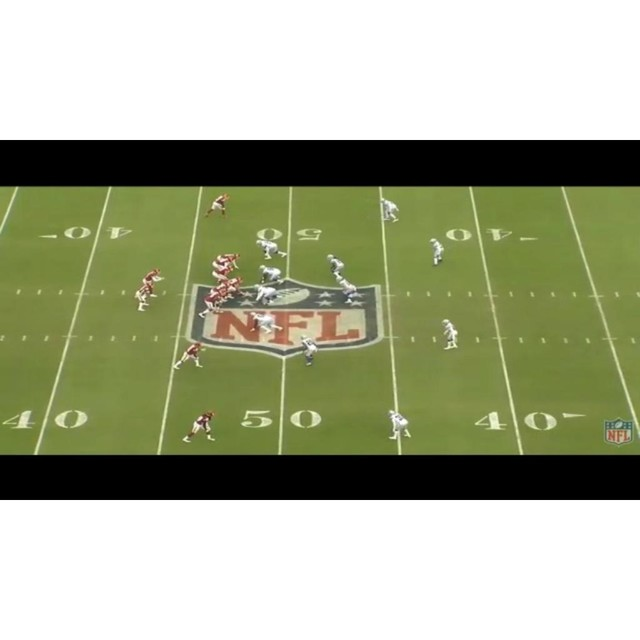american-football-player: (182, 411, 215, 443), (198, 287, 228, 319), (172, 342, 205, 369), (336, 276, 361, 307), (387, 410, 412, 441), (204, 193, 231, 220), (256, 238, 287, 260), (142, 267, 164, 297), (258, 264, 285, 286), (134, 281, 153, 312), (441, 318, 459, 350), (300, 336, 318, 367), (254, 284, 279, 306), (380, 197, 400, 223), (326, 253, 345, 280), (428, 238, 444, 267), (211, 263, 232, 284)
